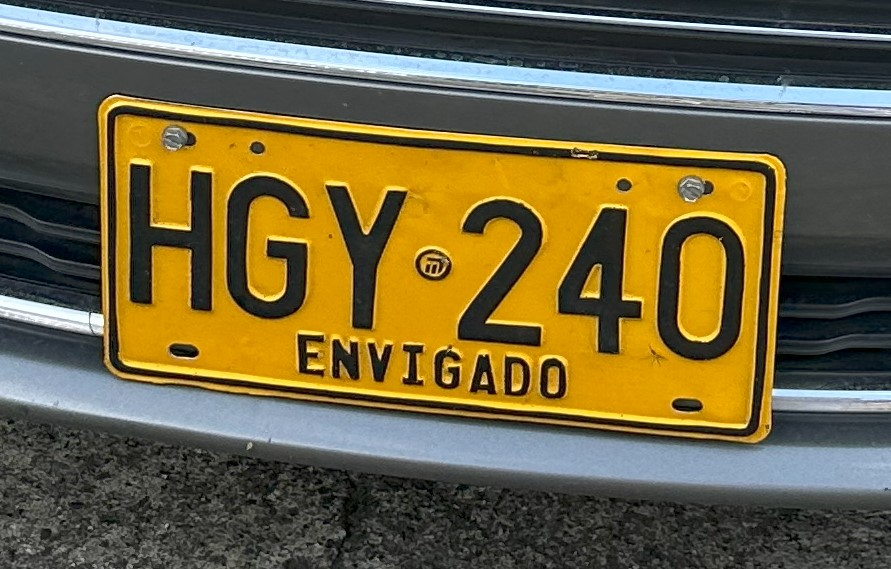number plate: (99, 96, 784, 440)
